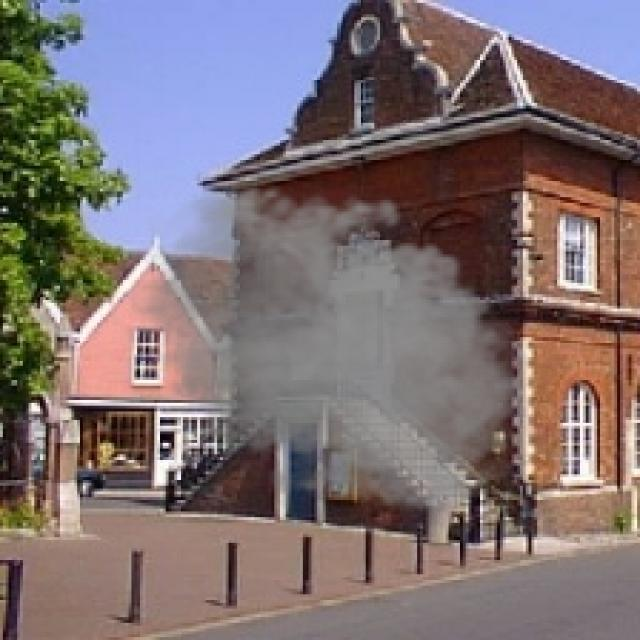smoke: (114, 174, 540, 517)
